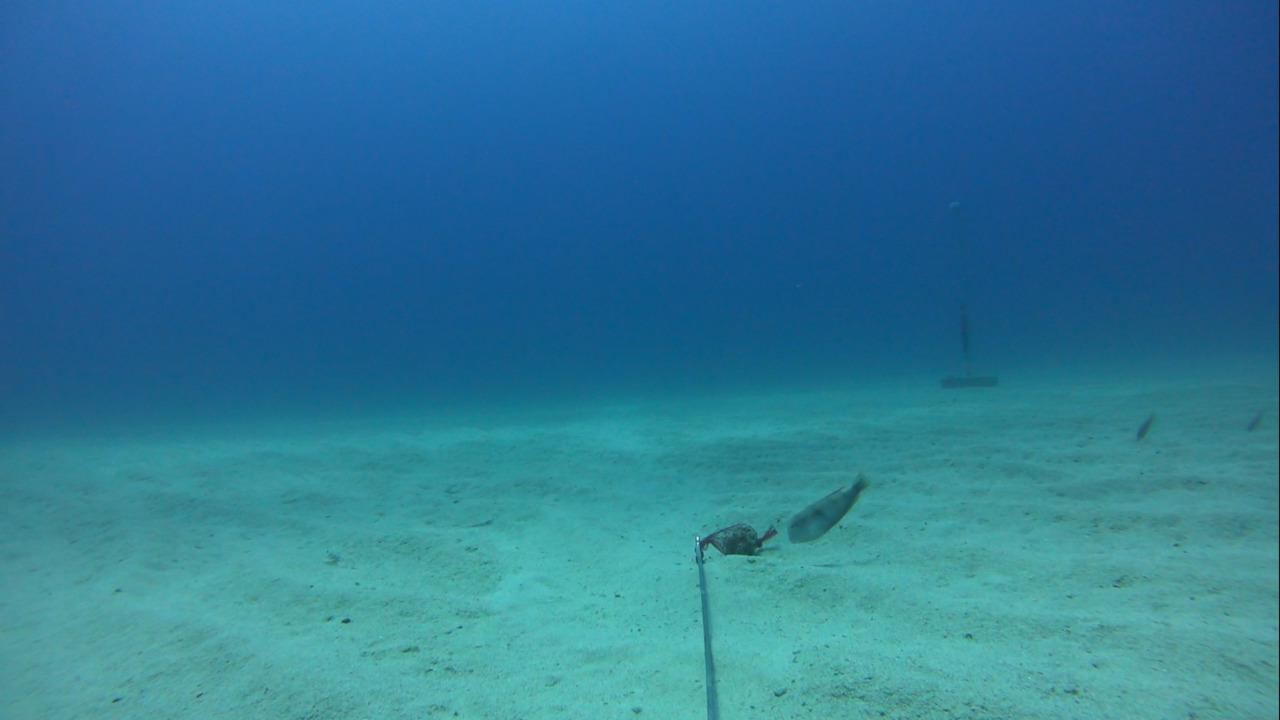raor: (775, 463, 873, 550), (1128, 403, 1162, 449), (1238, 402, 1265, 447)
